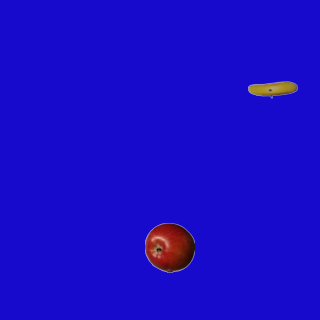Apple Braeburn: (144, 222, 194, 272)
Banana: (247, 64, 297, 114)
